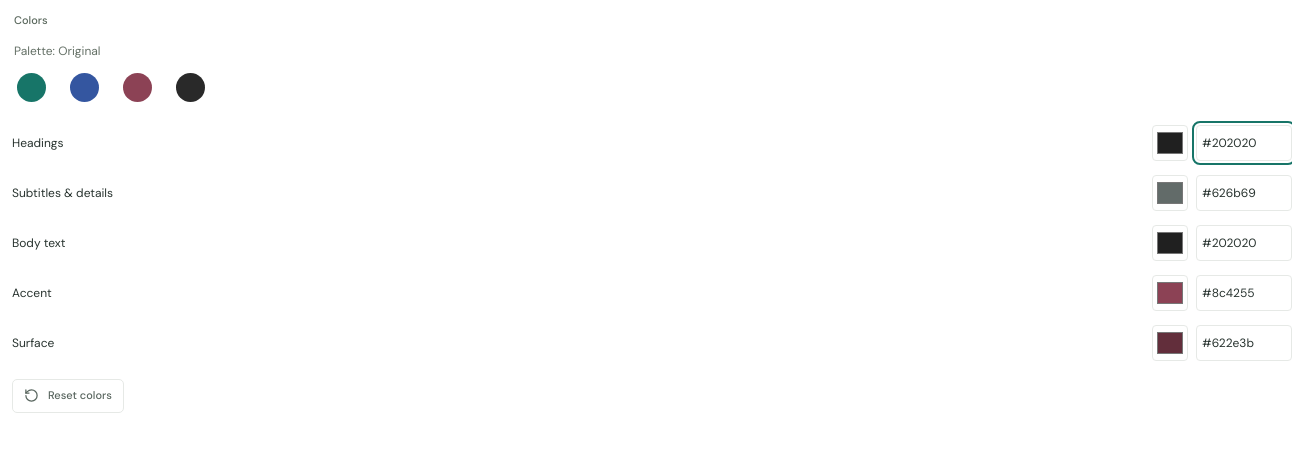
Scenario: edits independent roles, validates hex, applies palettes and resets colors
The width and height of the screenshot is (1304, 452).
Expected: the field labelled "Surface" holds "#622e3b", top-left (1196, 324), bottom-right (1292, 360)
Replace the text in the field labelled "Headings" with "#ab". click: (1244,142)
box: top-left (1196, 124), bottom-right (1292, 160)
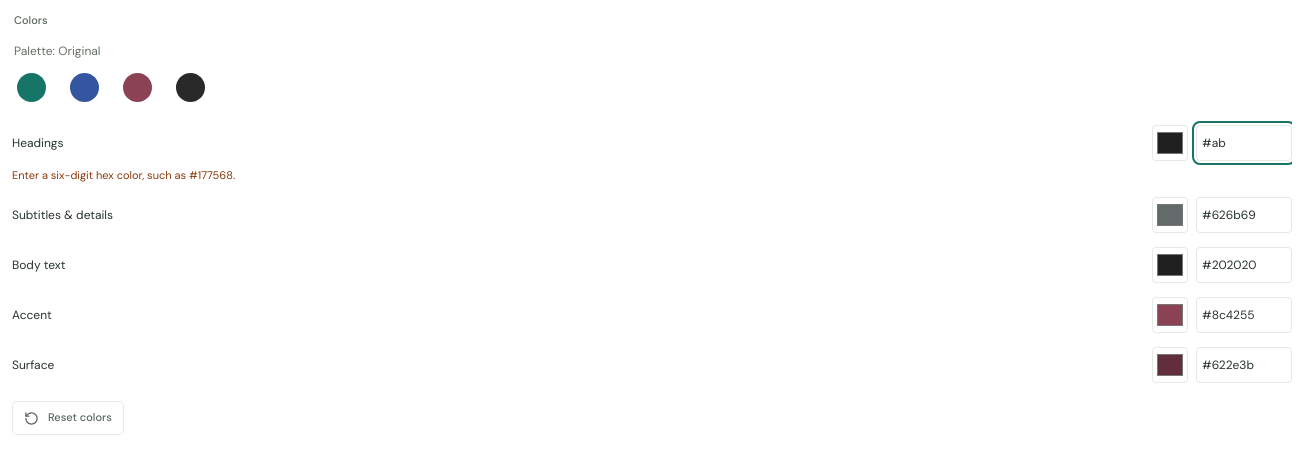
Result: the field labelled "Headings" is marked as invalid
Replace the text in the field labelled "Headings" with "#abcdef". click: (1244,142)
box: top-left (1196, 124), bottom-right (1292, 160)
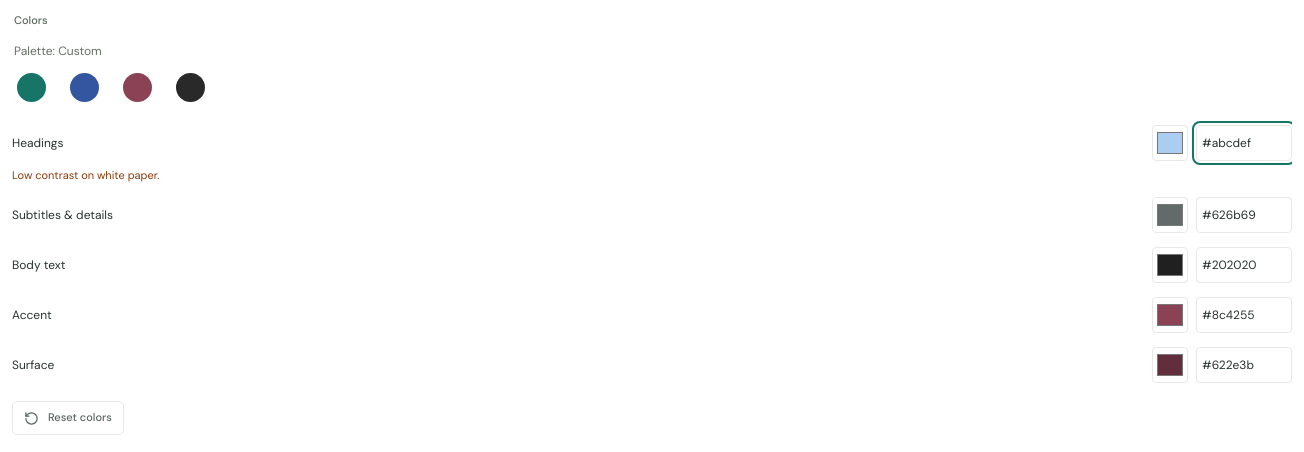
Result: the text "Low contrast on white paper." is shown at top-left (12, 168), bottom-right (160, 182)
Type "#123456" into the colour field named "Body text color picker". click: (1170,265)
box: top-left (1152, 247), bottom-right (1188, 283)
Click the radio button named "Cobalt". click: (84,87)
box: top-left (70, 72), bottom-right (99, 102)
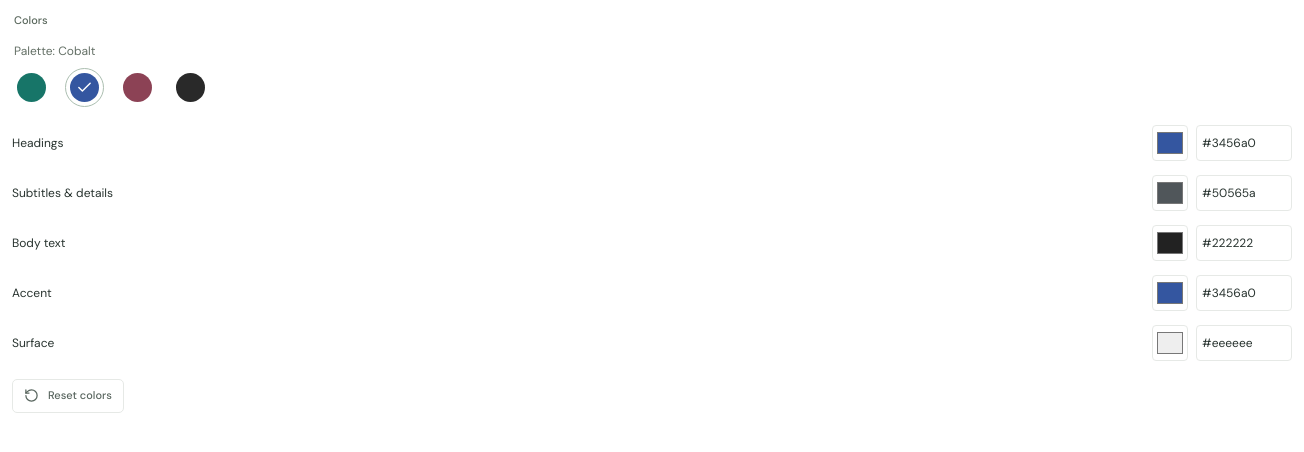
Result: the radio button named "Cobalt" is checked at top-left (65, 68), bottom-right (104, 106)
Result: the field labelled "Headings" holds "#3456a0" at top-left (1196, 124), bottom-right (1292, 160)
Result: the field labelled "Surface" holds "#eeeeee" at top-left (1196, 324), bottom-right (1292, 360)
Click the button "Reset colors". click: (68,396)
box: top-left (12, 378), bottom-right (124, 412)
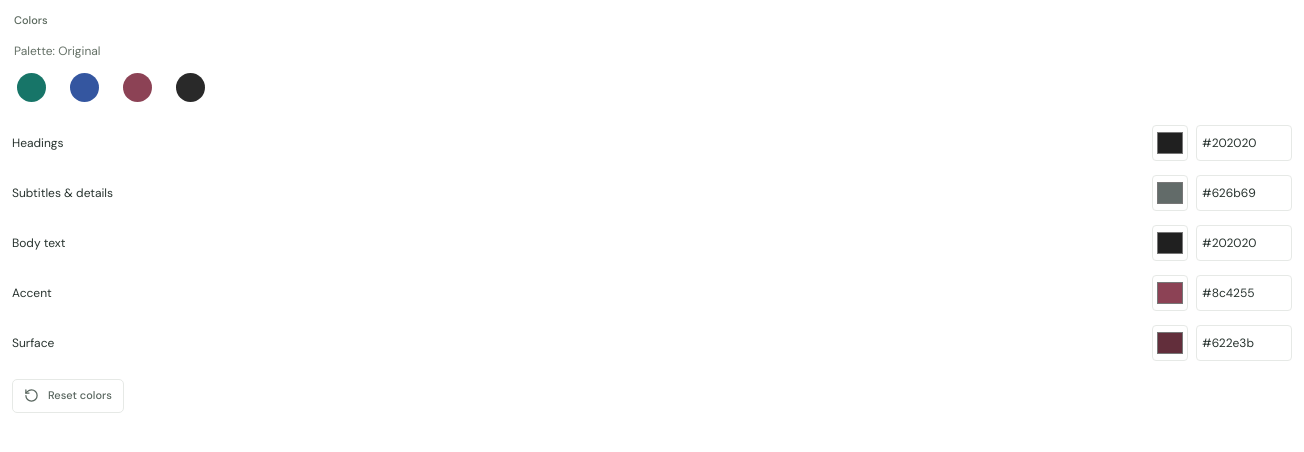
Result: the field labelled "Surface" holds "#622e3b" at top-left (1196, 324), bottom-right (1292, 360)
Replace the text in the field labelled "Headings" with "#12". click: (1244,142)
box: top-left (1196, 124), bottom-right (1292, 160)
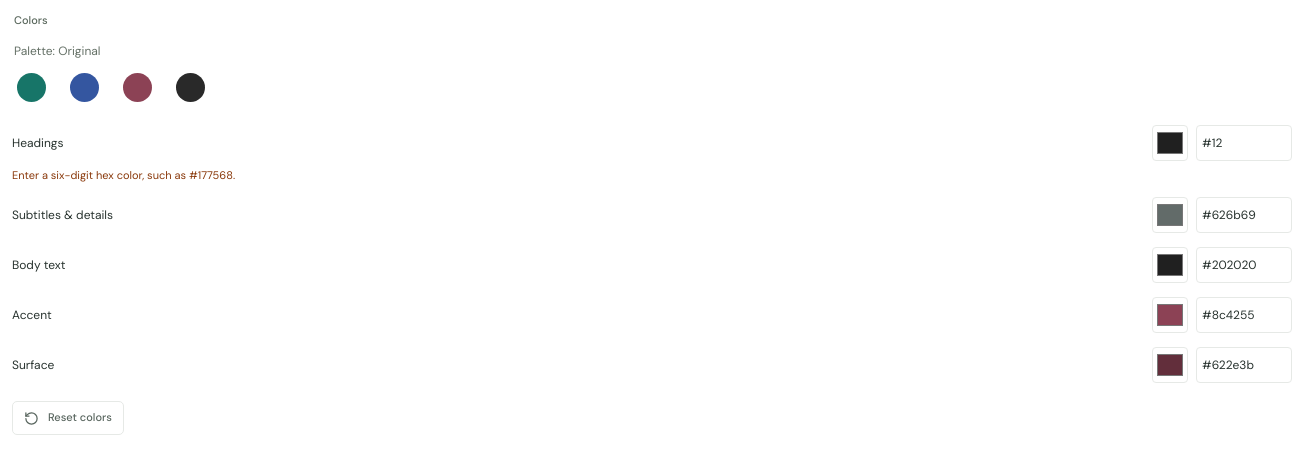
Click the button "Reset colors". click: (68,418)
box: top-left (12, 401), bottom-right (124, 435)
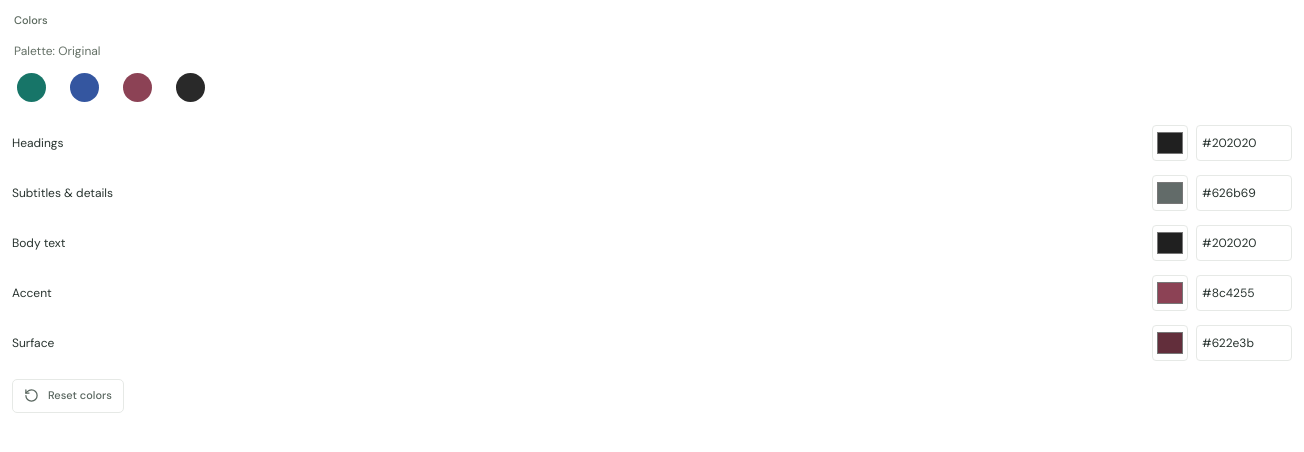
Result: the field labelled "Headings" holds "#202020" at top-left (1196, 124), bottom-right (1292, 160)
